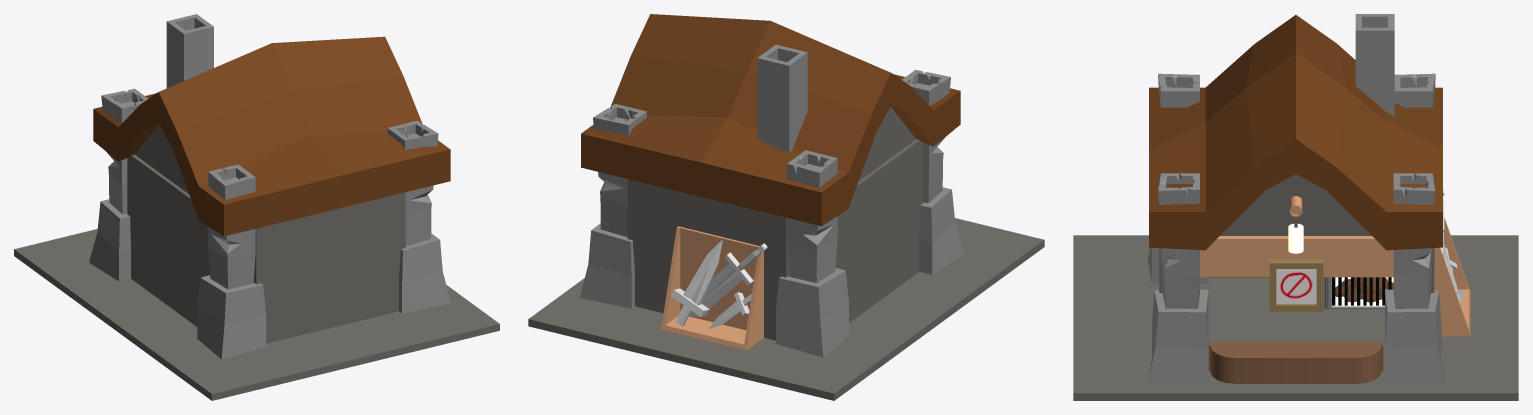
Rendered from WeaponShop.glb.
3 renders of one model, left to right at view 1: azimuth 30°, elevation 25°; view 2: azimuth 150°, elevation 25°; view 3: azimuth 270°, elevation 25°, orthographic. The views are drawn at different scales.
Visible parts, largest first — view 1: Cube.060, Cube.058, Cube.059, Cube.057, Cube.056, Cube.055, Cube.050, Cube.048; view 2: Cube.060, Cube.058, Cube.057, Cube.059, Cube.056, Cube.063, Cube.055, Cube.050, Cube.048, Cube.065, Cube.064, Cube.066; view 3: Cube.060, Cube.058, Cube.055, Cube.052, Cube.049, Cube.051, Cube.050, Cube.057, Cube.062, Cube.063, Cube.053, Cylinder.005.
Part boxes in pixels (x1,y1,x2,y2): Cube.060: [93, 36, 450, 236]; Cube.058: [14, 229, 499, 400]; Cube.059: [253, 192, 405, 343]; Cube.057: [89, 88, 266, 359]; Cube.056: [127, 154, 209, 326]; Cube.055: [387, 120, 450, 313]; Cube.050: [166, 14, 213, 87]; Cube.048: [135, 124, 188, 193]; Cube.060: [581, 14, 960, 226]; Cube.058: [528, 218, 1044, 400]; Cube.057: [776, 69, 963, 357]; Cube.059: [627, 179, 789, 340]; Cube.056: [835, 139, 923, 322]; Cube.063: [661, 226, 763, 350]; Cube.055: [580, 104, 646, 308]; Cube.050: [757, 44, 807, 153]; Cube.048: [858, 107, 915, 181]; Cube.065: [671, 240, 722, 325]; Cube.064: [689, 243, 767, 316]; Cube.066: [708, 292, 751, 329]; Cube.060: [1149, 15, 1442, 250]; Cube.058: [1073, 235, 1518, 400]; Cube.055: [1148, 173, 1445, 384]; Cube.052: [1208, 341, 1383, 383]; Cube.049: [1200, 236, 1393, 277]; Cube.051: [1220, 174, 1371, 235]; Cube.050: [1324, 14, 1394, 308]; Cube.057: [1147, 73, 1435, 284]; Cube.062: [1269, 259, 1323, 311]; Cube.063: [1434, 217, 1470, 336]; Cube.053: [1332, 277, 1391, 305]; Cylinder.005: [1288, 223, 1303, 253].
Size of the model in its own units: 19.14 by 15.97 by 22.79.
Materials: 11 (1 with a texture image).
